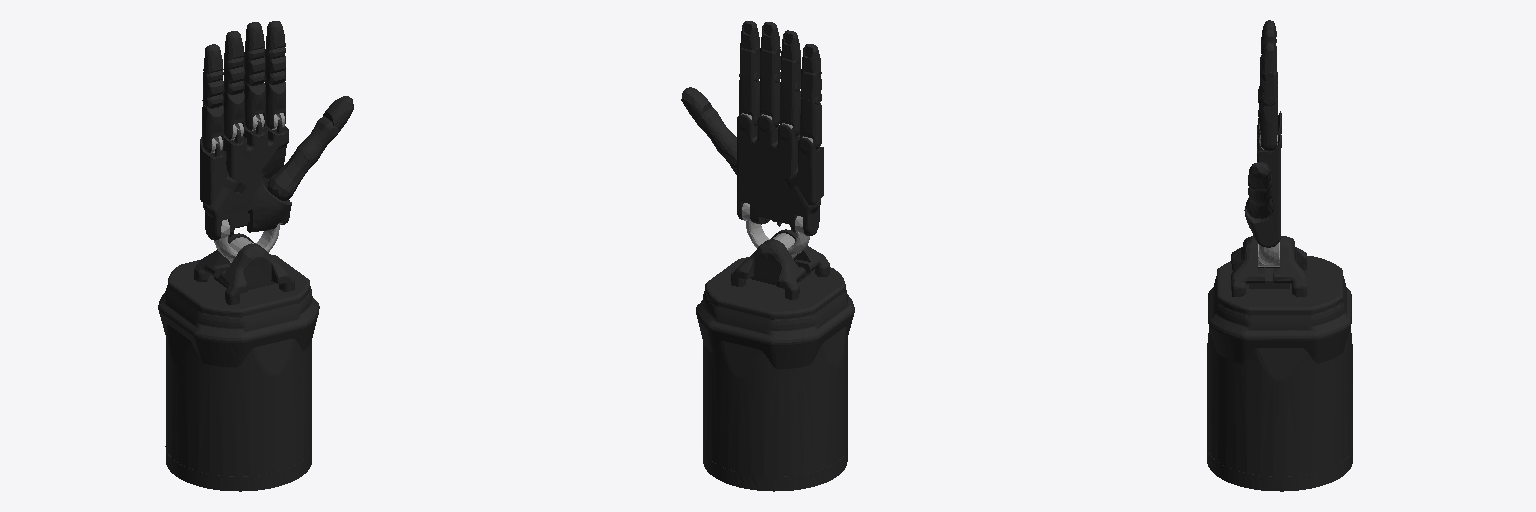
--- Facts derived from the render (not from the file) ---
Views: 3 orthographic renders of the robot side by side, from view 1: azimuth 30°, elevation 25°; view 2: azimuth 150°, elevation 25°; view 3: azimuth 270°, elevation 25°.
Robot: shadowhand_motor — 33 links, 32 joints (24 revolute, 8 fixed); root link world; default pose: every joint at zero.
Links seen in each view (by area): view 1: rh_forearm, rh_palm, rh_lfmetacarpal, rh_thproximal, rh_wrist, rh_thmiddle, rh_lfproximal, rh_rfproximal, rh_mfproximal, rh_ffproximal, rh_ffmiddle, rh_mfmiddle (+3 smaller); view 2: rh_forearm, rh_palm, rh_lfmetacarpal, rh_wrist, rh_thmiddle, rh_lfproximal, rh_rfproximal, rh_ffproximal, rh_mfproximal, rh_thdistal, rh_mfmiddle, rh_lfmiddle (+2 smaller); view 3: rh_forearm, rh_palm, rh_ffproximal, rh_ffmiddle.
Boxes of the visible links, <box> form: rh_forearm: <box>158,233,319,491</box>; rh_palm: <box>203,120,291,240</box>; rh_lfmetacarpal: <box>200,137,240,205</box>; rh_thproximal: <box>267,149,313,200</box>; rh_wrist: <box>214,219,282,262</box>; rh_thmiddle: <box>296,116,338,163</box>; rh_lfproximal: <box>202,103,223,152</box>; rh_rfproximal: <box>223,91,244,139</box>; rh_mfproximal: <box>244,80,265,130</box>; rh_ffproximal: <box>265,79,285,129</box>; rh_ffmiddle: <box>265,47,285,84</box>; rh_mfmiddle: <box>244,48,265,85</box>; rh_forearm: <box>696,229,854,491</box>; rh_palm: <box>737,114,820,235</box>; rh_lfmetacarpal: <box>784,138,823,204</box>; rh_wrist: <box>742,203,809,258</box>; rh_thmiddle: <box>696,108,736,154</box>; rh_lfproximal: <box>800,98,821,149</box>; rh_rfproximal: <box>780,86,800,136</box>; rh_ffproximal: <box>739,75,759,126</box>; rh_mfproximal: <box>760,76,779,127</box>; rh_thdistal: <box>681,87,712,122</box>; rh_mfmiddle: <box>760,48,780,82</box>; rh_lfmiddle: <box>801,69,821,104</box>; rh_forearm: <box>1207,236,1352,491</box>; rh_palm: <box>1244,113,1281,247</box>; rh_ffproximal: <box>1258,94,1277,151</box>; rh_ffmiddle: <box>1260,68,1277,105</box>.
Bounding box of the posed robot: 0.1783 × 0.1351 × 0.4454 m (x, y, z).
23 mesh visuals loaded from 11 distinct referenced files (11 Collada DAE).

URDF robot description (shadowhand_motor):
<?xml version="1.0" ?>
<!-- =================================================================================== -->
<!-- |    This document was autogenerated by xacro from [local-path]/projects/shadow_robot/base_deps/src/sr_common/sr_description/robots/shadowhand_motor.urdf.xacro | -->
<!-- |    EDITING THIS FILE BY HAND IS NOT RECOMMENDED                                 | -->
<!-- =================================================================================== -->
<robot name="shadowhand_motor" xmlns:body="http://playerstage.sourceforge.net/gazebo/xmlschema/#body" xmlns:controller="http://playerstage.sourceforge.net/gazebo/xmlschema/#controller" xmlns:geom="http://playerstage.sourceforge.net/gazebo/xmlschema/#geom" xmlns:interface="http://playerstage.sourceforge.net/gazebo/xmlschema/#interface" xmlns:joint="http://playerstage.sourceforge.net/gazebo/xmlschema/#slider" xmlns:sensor="http://playerstage.sourceforge.net/gazebo/xmlschema/#sensor" xmlns:xacro="http://www.ros.org/wiki/xacro">
  <material name="Blue">
    <color rgba="0.0 0.0 0.8 1.0"/>
  </material>
  <material name="Green">
    <color rgba="0.0 0.8 0.0 1.0"/>
  </material>
  <material name="BiotacGreen">
    <color rgba="0.31 0.85 0.42 1.0"/>
  </material>
  <material name="Grey">
    <color rgba="0.2 0.2 0.2 1.0"/>
  </material>
  <material name="LightGrey">
    <color rgba="0.6 0.6 0.6 1.0"/>
  </material>
  <material name="Red">
    <color rgba="0.8 0.0 0.0 1.0"/>
  </material>
  <material name="White">
    <color rgba="1.0 1.0 1.0 1.0"/>
  </material>
  <gazebo>
    <plugin filename="libgazebo_ros_control.so" name="gazebo_ros_control">
      <robotSimType>sr_gazebo_sim/SrGazeboHWSim</robotSimType>
    </plugin>
  </gazebo>
  <!-- hand with cylindrical base drifts in gazebo, attach it to the world -->
  <link name="world"/>
  <joint name="rh_world_joint" type="fixed">
    <parent link="world"/>
    <child link="rh_forearm"/>
    <origin rpy="0.0 0.0 0.0" xyz="0.0 0.0 0.0"/>
  </joint>
  <link name="rh_forearm">
    <inertial>
      <origin rpy="0 0 0" xyz="0 0 0.09"/>
      <mass value="3.0"/>
      <inertia ixx="0.0138" ixy="0.0" ixz="0.0" iyy="0.0138" iyz="0.0" izz="0.00744"/>
    </inertial>
    <visual>
      <origin rpy="0 0 0" xyz="0 0 0"/>
      <geometry name="rh_forearm_visual">
        <mesh filename="package://sr_description/meshes/hand/forearm_visual_plus.dae" scale="0.001 0.001 0.001"/>
      </geometry>
      <material name="Grey"/>
    </visual>
    <collision>
      <origin rpy="0 0 0" xyz="0 0 0.092"/>
      <geometry name="rh_forearm_collision">
        <mesh filename="package://sr_description/meshes/hand/forearm_collision_plus.stl" scale="0.001 0.001 0.001"/>
      </geometry>
    </collision>
    <!-- wrist mount -->
    <collision>
      <origin rpy="0 0.78 0" xyz="0 -0.01 0.181"/>
      <geometry>
        <box size="0.07 0.07 0.07"/>
      </geometry>
    </collision>
  </link>
  <gazebo reference="rh_forearm">
    <selfCollide>false</selfCollide>
  </gazebo>
  <link name="rh_wrist">
    <inertial>
      <origin rpy="0 0 0" xyz="0 0 0.029"/>
      <mass value="0.1"/>
      <inertia ixx="0.000035" ixy="0.0" ixz="0.0" iyy="0.000064" iyz="0.0" izz="0.0000438"/>
    </inertial>
    <visual>
      <origin rpy="0 0 0" xyz="0 0 0"/>
      <geometry name="rh_wrist_visual">
        <mesh filename="package://sr_description/meshes/hand/wrist.dae" scale="0.001 0.001 0.001"/>
      </geometry>
      <material name="LightGrey"/>
    </visual>
    <collision>
      <origin rpy="1.5708 1.5708 0" xyz="0 0 0"/>
      <geometry name="rh_wrist_collision_geom">
        <cylinder length="0.030" radius="0.0135"/>
      </geometry>
    </collision>
    <collision>
      <origin rpy="0 1.5708 0" xyz="-0.026 0 0.034"/>
      <geometry>
        <cylinder length="0.010" radius="0.011"/>
      </geometry>
    </collision>
    <collision>
      <origin rpy="0 1.5708 0" xyz="0.031 0 0.034"/>
      <geometry>
        <cylinder length="0.010" radius="0.011"/>
      </geometry>
    </collision>
    <collision>
      <origin rpy="0 0.7854 0" xyz="-0.021 0 0.011"/>
      <geometry>
        <box size="0.027 0.018 0.010"/>
      </geometry>
    </collision>
    <collision>
      <origin rpy="0 -0.7854 0" xyz="0.026 0 0.010"/>
      <geometry>
        <box size="0.027 0.018 0.010"/>
      </geometry>
    </collision>
  </link>
  <gazebo reference="rh_wrist">
    <material>Gazebo/White</material>
    <selfCollide>false</selfCollide>
  </gazebo>
  <joint name="rh_WRJ2" type="revolute">
    <parent link="rh_forearm"/>
    <child link="rh_wrist"/>
    <origin rpy="0 0 0" xyz="0 -0.010 0.213"/>
    <axis xyz="0 1.0 0"/>
    <limit effort="10.0" lower="-0.523598775598" upper="0.174532925199" velocity="2.0"/>
    <dynamics damping="0.1"/>
  </joint>
  <gazebo reference="rh_WRJ2">
    <provideFeedback>1</provideFeedback>
    <implicitSpringDamper>1</implicitSpringDamper>
  </gazebo>
  <transmission name="rh_wrist_transmission">
    <type>sr_mechanism_model/SimpleTransmission</type>
    <actuator name="rh_WRJ2">
      <mechanicalReduction>1</mechanicalReduction>
    </actuator>
    <joint name="rh_WRJ2">
      <hardwareInterface>hardware_interface/EffortJointInterface</hardwareInterface>
    </joint>
  </transmission>
  <link name="rh_palm">
    <inertial>
      <origin rpy="0 0 0" xyz="0 0 0.035"/>
      <mass value="0.3"/>
      <inertia ixx="0.0003581" ixy="0.0" ixz="0.0" iyy="0.0005287" iyz="0.0" izz="0.000191"/>
    </inertial>
    <visual>
      <origin rpy="0 0 0" xyz="0 0 0"/>
      <geometry name="rh_palm_visual">
        <mesh filename="package://sr_description/meshes/hand/palm.dae" scale="0.001 0.001 0.001"/>
      </geometry>
      <material name="Grey"/>
    </visual>
    <collision>
      <origin rpy="0 0 0" xyz="0.011 0.0085 0.038"/>
      <geometry name="rh_palm_collision_geom">
        <box size="0.062 0.007 0.098"/>
      </geometry>
    </collision>
    <collision>
      <origin rpy="0 0 0" xyz="-0.002 -0.0035 0.038"/>
      <geometry>
        <box size="0.036 0.017 0.098"/>
      </geometry>
    </collision>
    <!-- palm complement below first finger -->
    <collision>
      <origin rpy="0 0 0" xyz="0.029 -0.0035 0.082"/>
      <geometry>
        <box size="0.026 0.017 0.010"/>
      </geometry>
    </collision>
    <collision>
      <origin rpy="0.2 0 0.25" xyz="0.0265 -0.001 0.070"/>
      <geometry>
        <box size="0.026 0.014 0.018"/>
      </geometry>
    </collision>
    <!-- thumb pulp side -->
    <collision>
      <origin rpy="0 0 0" xyz="0.0315 -0.0085 0.001"/>
      <geometry>
        <box size="0.021 0.027 0.024"/>
      </geometry>
    </collision>
    <!-- thumb pulp central -->
    <collision>
      <origin rpy="0 0 -0.48" xyz="0.0125 -0.015 0.009"/>
      <geometry>
        <box size="0.022 0.005 0.040"/>
      </geometry>
    </collision>
    <!-- above middle finger-->
    <collision>
      <origin rpy="0 0 0" xyz="0.011 0 0.089"/>
      <geometry>
        <box size="0.018 0.024 0.004"/>
      </geometry>
    </collision>
    <!-- metacarpal side-->
    <collision>
      <origin rpy="0 0 0" xyz="-0.03 0 0.009"/>
      <geometry>
        <box size="0.020 0.024 0.040"/>
      </geometry>
    </collision>
  </link>
  <joint name="rh_ee_fixed_joint" type="fixed">
    <parent link="rh_palm"/>
    <child link="rh_manipulator"/>
    <origin rpy="0.0 0.0 0.0" xyz="0.0 0.0 0.05"/>
  </joint>
  <link name="rh_manipulator"/>
  <joint name="rh_WRJ1" type="revolute">
    <parent link="rh_wrist"/>
    <child link="rh_palm"/>
    <origin rpy="0 0 0" xyz="0 0 0.034"/>
    <axis xyz="1 0 0"/>
    <limit effort="5.0" lower="-0.698131700798" upper="0.488692190558" velocity="2.0"/>
    <dynamics damping="0.1"/>
  </joint>
  <gazebo reference="rh_WRJ1">
    <provideFeedback>1</provideFeedback>
    <implicitSpringDamper>1</implicitSpringDamper>
  </gazebo>
  <link name="rh_imu"/>
  <joint name="rh_palm_to_imu" type="fixed">
    <parent link="rh_palm"/>
    <child link="rh_imu"/>
    <origin rpy="-1.5707963 3.141592 0.0" xyz="0.01785 0.00765 0.049125"/>
  </joint>
  <sensor name="rh_imu" update_rate="100">
    <parent link="rh_imu"/>
    <origin rpy="0 0 0" xyz="0 0 0"/>
  </sensor>
  <transmission name="rh_palm_transmission">
    <type>sr_mechanism_model/SimpleTransmission</type>
    <actuator name="rh_WRJ1">
      <mechanicalReduction>1</mechanicalReduction>
    </actuator>
    <joint name="rh_WRJ1">
      <hardwareInterface>hardware_interface/EffortJointInterface</hardwareInterface>
    </joint>
  </transmission>
  <!-- prefix can be anything but usually is "r_" or  "l_" for right and left hands distinction -->
  <gazebo reference="rh_palm">
    <sensor name="rh_palm_contact" type="contact">
      <always_on>1</always_on>
      <update_rate>1000.0</update_rate>
      <contact>
        <collision>rh_palm_collision</collision>
        <topic>rh_palm_collision</topic>
      </contact>
      <plugin filename="libgazebo_ros_bumper.so" name="rh_palm_gazebo_ros_bumper_controller">
        <alwaysOn>true</alwaysOn>
        <frameName>rh_palm</frameName>
        <updateRate>100.0</updateRate>
        <bumperTopicName>contacts/rh_palm</bumperTopicName>
      </plugin>
    </sensor>
  </gazebo>
  <link name="rh_ffknuckle">
    <inertial>
      <origin rpy="0 0 0" xyz="0 0 0"/>
      <mass value="0.008"/>
      <inertia ixx="0.00000026" ixy="0.0" ixz="0.0" iyy="0.00000026" iyz="0.0" izz="0.00000032"/>
    </inertial>
    <visual>
      <origin rpy="0 0 0" xyz="0 0 0.0005"/>
      <geometry name="rh_ffknuckle_visual">
        <mesh filename="package://sr_description/meshes/hand/knuckle.dae" scale="0.001 0.001 0.001"/>
      </geometry>
      <material name="LightGrey"/>
    </visual>
    <collision>
      <origin rpy="0 1.5708 0" xyz="0 0 0"/>
      <geometry name="rh_ffknuckle_collision_geom">
        <cylinder length="0.014" radius="0.007"/>
      </geometry>
    </collision>
  </link>
  <joint name="rh_FFJ4" type="revolute">
    <parent link="rh_palm"/>
    <child link="rh_ffknuckle"/>
    <!--<origin xyz="0.033 0 0.095" rpy="0 0 0" />-->
    <origin rpy="0 0 0" xyz="0.033 0 0.095"/>
    <axis xyz="0 -1.0 0"/>
    <limit effort="4.0" lower="-0.349065850399" upper="0.349065850399" velocity="2.0"/>
    <dynamics damping="0.1"/>
  </joint>
  <gazebo reference="rh_FFJ4">
    <provideFeedback>1</provideFeedback>
    <implicitSpringDamper>1</implicitSpringDamper>
  </gazebo>
  <transmission name="rh_ffknuckle_transmission">
    <type>sr_mechanism_model/SimpleTransmission</type>
    <actuator name="rh_FFJ4">
      <mechanicalReduction>1</mechanicalReduction>
    </actuator>
    <joint name="rh_FFJ4">
      <hardwareInterface>hardware_interface/EffortJointInterface</hardwareInterface>
    </joint>
  </transmission>
  <!-- prefix can be anything but usually is "r_" or  "l_" for right and left hands distinction -->
  <gazebo reference="rh_ffknuckle">
    <sensor name="rh_ffknuckle_contact" type="contact">
      <always_on>1</always_on>
      <update_rate>1000.0</update_rate>
      <contact>
        <collision>rh_ffknuckle_collision</collision>
        <topic>rh_ffknuckle_collision</topic>
      </contact>
      <plugin filename="libgazebo_ros_bumper.so" name="rh_ffknuckle_gazebo_ros_bumper_controller">
        <alwaysOn>true</alwaysOn>
        <frameName>rh_ffknuckle</frameName>
        <updateRate>100.0</updateRate>
        <bumperTopicName>contacts/rh_ff/knuckle</bumperTopicName>
      </plugin>
    </sensor>
    <material>Gazebo/Grey</material>
  </gazebo>
  <link name="rh_ffproximal">
    <inertial>
      <mass value="0.030"/>
      <origin xyz="0 0 0.0225"/>
      <inertia ixx="0.0000098" ixy="0.0" ixz="0.0" iyy="0.00001" iyz="0.0" izz="0.0000018"/>
    </inertial>
    <visual>
      <origin rpy="0 0 0" xyz="0 0 0"/>
      <geometry name="rh_ffproximal_visual">
        <mesh filename="package://sr_description/meshes/hand/F3.dae" scale="0.001 0.001 0.001"/>
      </geometry>
      <material name="Grey"/>
    </visual>
    <collision>
      <origin rpy="0 0 0" xyz="0 0 0.025"/>
      <geometry name="rh_ffproximal_collision_geom">
        <cylinder length="0.040" radius="0.007"/>
      </geometry>
    </collision>
  </link>
  <joint name="rh_FFJ3" type="revolute">
    <parent link="rh_ffknuckle"/>
    <child link="rh_ffproximal"/>
    <origin rpy="0 0 0" xyz="0 0 0"/>
    <axis xyz="1 0 0"/>
    <limit effort="4.0" lower="0" upper="1.57079632679" velocity="2.0"/>
    <dynamics damping="0.1"/>
  </joint>
  <gazebo reference="rh_FFJ3">
    <provideFeedback>1</provideFeedback>
    <implicitSpringDamper>1</implicitSpringDamper>
  </gazebo>
  <transmission name="rh_ffproximal_transmission">
    <type>sr_mechanism_model/SimpleTransmission</type>
    <actuator name="rh_FFJ3">
      <mechanicalReduction>1</mechanicalReduction>
    </actuator>
    <joint name="rh_FFJ3">
      <hardwareInterface>hardware_interface/EffortJointInterface</hardwareInterface>
    </joint>
  </transmission>
  <!-- prefix can be anything but usually is "r_" or  "l_" for right and left hands distinction -->
  <gazebo reference="rh_ffproximal">
    <sensor name="rh_ffproximal_contact" type="contact">
      <always_on>1</always_on>
      <update_rate>1000.0</update_rate>
      <contact>
        <collision>rh_ffproximal_collision</collision>
        <topic>rh_ffproximal_collision</topic>
      </contact>
      <plugin filename="libgazebo_ros_bumper.so" name="rh_ffproximal_gazebo_ros_bumper_controller">
        <alwaysOn>true</alwaysOn>
        <frameName>rh_ffproximal</frameName>
        <updateRate>100.0</updateRate>
        <bumperTopicName>contacts/rh_ff/proximal</bumperTopicName>
      </plugin>
    </sensor>
    <selfCollide>true</selfCollide>
  </gazebo>
  <link name="rh_ffmiddle">
    <inertial>
      <origin rpy="0 0 0" xyz="0 0 0.0125"/>
      <mass value="0.017"/>
      <inertia ixx="0.0000026" ixy="0.0" ixz="0.0" iyy="0.0000027" iyz="0.0" izz="0.00000087"/>
    </inertial>
    <visual>
      <origin rpy="0 0 0" xyz="0 0 0"/>
      <geometry name="rh_ffmiddle_visual">
        <mesh filename="package://sr_description/meshes/hand/F2.dae" scale="0.001 0.001 0.001"/>
      </geometry>
      <material name="Grey"/>
    </visual>
    <collision>
      <origin rpy="0 0 0" xyz="0 0 0.0125"/>
      <geometry name="rh_ffmiddle_collision_geom">
        <cylinder length="0.025" radius="0.007"/>
      </geometry>
    </collision>
    <collision>
      <origin rpy="0 0 0" xyz="0 0 0.0"/>
      <geometry>
        <sphere radius="0.007"/>
      </geometry>
    </collision>
    <collision>
      <origin rpy="0 0 0" xyz="0 0 0.025"/>
      <geometry>
        <sphere radius="0.007"/>
      </geometry>
    </collision>
  </link>
  <joint name="rh_FFJ2" type="revolute">
    <parent link="rh_ffproximal"/>
    <child link="rh_ffmiddle"/>
    <origin rpy="0 0 0" xyz="0 0 0.045"/>
    <axis xyz="1 0 0"/>
    <limit effort="4.0" lower="0" upper="1.57079632679" velocity="2.0"/>
    <dynamics damping="0.1"/>
  </joint>
  <gazebo reference="rh_FFJ2">
    <provideFeedback>1</provideFeedback>
    <implicitSpringDamper>1</implicitSpringDamper>
  </gazebo>
  <transmission name="rh_ffmiddle_transmission">
    <type>sr_mechanism_model/SimpleTransmission</type>
    <actuator name="rh_FFJ2">
      <mechanicalReduction>1</mechanicalReduction>
    </actuator>
    <joint name="rh_FFJ2">
      <hardwareInterface>hardware_interface/EffortJointInterface</hardwareInterface>
    </joint>
    <!-- <joint name="rh_FFJ1">
      <hardwareInterface>hardware_interface/EffortJointInterface</hardwareInterface>
    </joint> -->
  </transmission>
  <!-- prefix can be anything but usually is "r_" or  "l_" for right and left hands distinction -->
  <gazebo reference="rh_ffmiddle">
    <sensor name="rh_ffmiddle_contact" type="contact">
      <always_on>1</always_on>
      <update_rate>1000.0</update_rate>
      <contact>
        <collision>rh_ffmiddle_collision</collision>
        <topic>rh_ffmiddle_collision</topic>
      </contact>
      <plugin filename="libgazebo_ros_bumper.so" name="rh_ffproximal_gazebo_ros_bumper_controller">
        <alwaysOn>true</alwaysOn>
        <frameName>rh_ffmiddle</frameName>
        <updateRate>100.0</updateRate>
        <bumperTopicName>contacts/rh_ff/middle</bumperTopicName>
      </plugin>
    </sensor>
    <selfCollide>true</selfCollide>
  </gazebo>
  <link name="rh_ffdistal">
    <inertial>
      <mass value="0.012"/>
      <origin xyz="0 0 0.012"/>
      <inertia ixx="0.00000094" ixy="0.0" ixz="0.0" iyy="0.0000011" iyz="0.0" izz="0.00000053"/>
    </inertial>
    <visual>
      <origin rpy="0 0 0" xyz="0 0 0"/>
      <geometry name="rh_ffdistal_visual">
        <!-- Standard distal  -->
        <mesh filename="package://sr_description/meshes/hand/F1.dae" scale="0.001 0.001 0.001"/>
      </geometry>
      <material name="Grey"/>
    </visual>
    <collision>
      <origin rpy="0 0 0" xyz="0 0 0"/>
      <geometry name="rh_ffdistal_collision_geom">
        <!-- Standard distal  -->
        <mesh filename="package://sr_description/meshes/hand/F1.dae" scale="0.001 0.001 0.001"/>
      </geometry>
    </collision>
  </link>
  <joint name="rh_FFJ1" type="revolute">
    <parent link="rh_ffmiddle"/>
    <child link="rh_ffdistal"/>
    <origin rpy="0 0 0" xyz="0 0 0.025"/>
    <axis xyz="1 0 0"/>
    <!-- standard distal joint -->
    <limit effort="4.0" lower="0" upper="1.57079632679" velocity="2.0"/>
    <dynamics damping="0.1"/>
  </joint>
  <gazebo reference="rh_FFJ1">
    <provideFeedback>1</provideFeedback>
    <implicitSpringDamper>1</implicitSpringDamper>
  </gazebo>
  <link name="rh_fftip">
    <inertial>
      <mass value="0.001"/>
      <inertia ixx="0.0" ixy="0.0" ixz="0.0" iyy="0.0" iyz="0.0" izz="0.0"/>
    </inertial>
  </link>
  <joint name="rh_FFtip" type="fixed">
    <parent link="rh_ffdistal"/>
    <child link="rh_fftip"/>
    <origin rpy="0 0 0" xyz="0 0 0.026"/>
  </joint>
  <transmission name="rh_ffdistal_transmission">
    <type>sr_mechanism_model/SimpleTransmission</type>
    <actuator name="rh_FFJ1">
      <mechanicalReduction>1</mechanicalReduction>
    </actuator>
    <joint name="rh_FFJ1">
      <hardwareInterface>hardware_interface/EffortJointInterface</hardwareInterface>
    </joint>
  </transmission>
  <!-- prefix can be anything but usually is "r_" or  "l_" for right and left hands distinction -->
  <gazebo reference="rh_ffdistal">
    <sensor name="rh_ffdistal_contact" type="contact">
      <always_on>1</always_on>
      <update_rate>1000.0</update_rate>
      <contact>
        <collision>rh_ffdistal_collision</collision>
        <topic>rh_ffdistal_collision</topic>
      </contact>
      <plugin filename="libgazebo_ros_bumper.so" name="rh_ffdistal_gazebo_ros_bumper_controller">
        <alwaysOn>true</alwaysOn>
        <frameName>rh_ffdistal</frameName>
        <updateRate>100.0</updateRate>
        <bumperTopicName>contacts/rh_ff/distal</bumperTopicName>
      </plugin>
    </sensor>
    <mu1 value="500.0"/>
    <mu2 value="500.0"/>
    <kp value="10000000.0"/>
    <kd value="1.0"/>
    <selfCollide>true</selfCollide>
  </gazebo>
  <link name="rh_mfknuckle">
    <inertial>
      <origin rpy="0 0 0" xyz="0 0 0"/>
      <mass value="0.008"/>
      <inertia ixx="0.00000026" ixy="0.0" ixz="0.0" iyy="0.00000026" iyz="0.0" izz="0.00000032"/>
    </inertial>
    <visual>
      <origin rpy="0 0 0" xyz="0 0 0.0005"/>
      <geometry name="rh_mfknuckle_visual">
        <mesh filename="package://sr_description/meshes/hand/knuckle.dae" scale="0.001 0.001 0.001"/>
      </geometry>
      <material name="LightGrey"/>
    </visual>
    <collision>
      <origin rpy="0 1.5708 0" xyz="0 0 0"/>
      <geometry name="rh_mfknuckle_collision_geom">
        <cylinder length="0.014" radius="0.007"/>
      </geometry>
    </collision>
  </link>
  <joint name="rh_MFJ4" type="revolute">
    <parent link="rh_palm"/>
    <child link="rh_mfknuckle"/>
    <!--<origin xyz="0.033 0 0.095" rpy="0 0 0" />-->
    <origin rpy="0 0 0" xyz="0.011 0 0.099"/>
    <axis xyz="0 -1.0 0"/>
    <limit effort="4.0" lower="-0.349065850399" upper="0.349065850399" velocity="2.0"/>
    <dynamics damping="0.1"/>
  </joint>
  <gazebo reference="rh_MFJ4">
    <provideFeedback>1</provideFeedback>
    <implicitSpringDamper>1</implicitSpringDamper>
  </gazebo>
  <transmission name="rh_mfknuckle_transmission">
    <type>sr_mechanism_model/SimpleTransmission</type>
    <actuator name="rh_MFJ4">
      <mechanicalReduction>1</mechanicalReduction>
    </actuator>
    <joint name="rh_MFJ4">
      <hardwareInterface>hardware_interface/EffortJointInterface</hardwareInterface>
    </joint>
  </transmission>
  <!-- prefix can be anything but usually is "r_" or  "l_" for right and left hands distinction -->
  <gazebo reference="rh_mfknuckle">
    <sensor name="rh_mfknuckle_contact" type="contact">
      <always_on>1</always_on>
      <update_rate>1000.0</update_rate>
      <contact>
        <collision>rh_mfknuckle_collision</collision>
        <topic>rh_mfknuckle_collision</topic>
      </contact>
      <plugin filename="libgazebo_ros_bumper.so" name="rh_mfknuckle_gazebo_ros_bumper_controller">
        <alwaysOn>true</alwaysOn>
        <frameName>rh_mfknuckle</frameName>
        <updateRate>100.0</updateRate>
        <bumperTopicName>contacts/rh_mf/knuckle</bumperTopicName>
      </plugin>
    </sensor>
    <material>Gazebo/Grey</material>
  </gazebo>
  <link name="rh_mfproximal">
    <inertial>
      <mass value="0.030"/>
      <origin xyz="0 0 0.0225"/>
      <inertia ixx="0.0000098" ixy="0.0" ixz="0.0" iyy="0.00001" iyz="0.0" izz="0.0000018"/>
    </inertial>
    <visual>
      <origin rpy="0 0 0" xyz="0 0 0"/>
      <geometry name="rh_mfproximal_visual">
        <mesh filename="package://sr_description/meshes/hand/F3.dae" scale="0.001 0.001 0.001"/>
      </geometry>
      <material name="Grey"/>
    </visual>
    <collision>
      <origin rpy="0 0 0" xyz="0 0 0.025"/>
      <geometry name="rh_mfproximal_collision_geom">
        <cylinder length="0.040" radius="0.007"/>
      </geometry>
    </collision>
  </link>
  <joint name="rh_MFJ3" type="revolute">
    <parent link="rh_mfknuckle"/>
    <child link="rh_mfproximal"/>
    <origin rpy="0 0 0" xyz="0 0 0"/>
    <axis xyz="1 0 0"/>
    <limit effort="4.0" lower="0" upper="1.57079632679" velocity="2.0"/>
    <dynamics damping="0.1"/>
  </joint>
  <gazebo reference="rh_MFJ3">
    <provideFeedback>1</provideFeedback>
    <implicitSpringDamper>1</implicitSpringDamper>
  </gazebo>
  <transmission name="rh_mfproximal_transmission">
    <type>sr_mechanism_model/SimpleTransmission</type>
    <actuator name="rh_MFJ3">
      <mechanicalReduction>1</mechanicalReduction>
    </actuator>
    <joint name="rh_MFJ3">
      <hardwareInterface>hardware_interface/EffortJointInterface</hardwareInterface>
    </joint>
  </transmission>
  <!-- prefix can be anything but usually is "r_" or  "l_" for right and left hands distinction -->
  <gazebo reference="rh_mfproximal">
    <sensor name="rh_mfproximal_contact" type="contact">
      <always_on>1</always_on>
      <update_rate>1000.0</update_rate>
      <contact>
        <collision>rh_mfproximal_collision</collision>
        <topic>rh_mfproximal_collision</topic>
      </contact>
      <plugin filename="libgazebo_ros_bumper.so" name="rh_mfproximal_gazebo_ros_bumper_controller">
        <alwaysOn>true</alwaysOn>
        <frameName>rh_mfproximal</frameName>
        <updateRate>100.0</updateRate>
        <bumperTopicName>contacts/rh_mf/proximal</bumperTopicName>
      </plugin>
    </sensor>
    <selfCollide>true</selfCollide>
  </gazebo>
  <link name="rh_mfmiddle">
    <inertial>
      <origin rpy="0 0 0" xyz="0 0 0.0125"/>
      <mass value="0.017"/>
      <inertia ixx="0.0000026" ixy="0.0" ixz="0.0" iyy="0.0000027" iyz="0.0" izz="0.00000087"/>
    </inertial>
    <visual>
      <origin rpy="0 0 0" xyz="0 0 0"/>
      <geometry name="rh_mfmiddle_visual">
        <mesh filename="package://sr_description/meshes/hand/F2.dae" scale="0.001 0.001 0.001"/>
      </geometry>
      <material name="Grey"/>
    </visual>
    <collision>
      <origin rpy="0 0 0" xyz="0 0 0.0125"/>
      <geometry name="rh_mfmiddle_collision_geom">
        <cylinder length="0.025" radius="0.007"/>
      </geometry>
    </collision>
    <collision>
      <origin rpy="0 0 0" xyz="0 0 0.0"/>
      <geometry>
        <sphere radius="0.007"/>
      </geometry>
    </collision>
    <collision>
      <origin rpy="0 0 0" xyz="0 0 0.025"/>
      <geometry>
        <sphere radius="0.007"/>
      </geometry>
    </collision>
  </link>
  <joint name="rh_MFJ2" type="revolute">
    <parent link="rh_mfproximal"/>
    <child link="rh_mfmiddle"/>
    <origin rpy="0 0 0" xyz="0 0 0.045"/>
    <axis xyz="1 0 0"/>
    <limit effort="4.0" lower="0" upper="1.57079632679" velocity="2.0"/>
    <dynamics damping="0.1"/>
  </joint>
  <gazebo reference="rh_MFJ2">
    <provideFeedback>1</provideFeedback>
    <implicitSpringDamper>1</implicitSpringDamper>
  </gazebo>
  <transmission name="rh_mfmiddle_transmission">
    <type>sr_mechanism_model/SimpleTransmission</type>
    <actuator name="rh_MFJ2">
      <mechanicalReduction>1</mechanicalReduction>
    </actuator>
    <joint name="rh_MFJ2">
      <hardwareInterface>hardware_interface/EffortJointInterface</hardwareInterface>
    </joint>
  </transmission>
  <!-- prefix can be anything but usually is "r_" or  "l_" for right and left hands distinction -->
  <gazebo reference="rh_mfmiddle">
    <sensor name="rh_mfmiddle_contact" type="contact">
      <always_on>1</always_on>
      <update_rate>1000.0</update_rate>
      <contact>
        <collision>rh_mfmiddle_collision</collision>
        <topic>rh_mfmiddle_collision</topic>
      </contact>
      <plugin filename="libgazebo_ros_bumper.so" name="rh_mfproximal_gazebo_ros_bumper_controller">
        <alwaysOn>true</alwaysOn>
        <frameName>rh_mfmiddle</frameName>
        <updateRate>100.0</updateRate>
        <bumperTopicName>contacts/rh_mf/middle</bumperTopicName>
      </plugin>
    </sensor>
    <selfCollide>true</selfCollide>
  </gazebo>
  <link name="rh_mfdistal">
    <inertial>
      <mass value="0.012"/>
      <origin xyz="0 0 0.012"/>
      <inertia ixx="0.00000094" ixy="0.0" ixz="0.0" iyy="0.0000011" iyz="0.0" izz="0.00000053"/>
    </inertial>
    <visual>
      <origin rpy="0 0 0" xyz="0 0 0"/>
      <geometry name="rh_mfdistal_visual">
        <!-- Standard distal  -->
        <mesh filename="package://sr_description/meshes/hand/F1.dae" scale="0.001 0.001 0.001"/>
      </geometry>
      <material name="Grey"/>
    </visual>
    <collision>
      <origin rpy="0 0 0" xyz="0 0 0"/>
      <geometry name="rh_mfdistal_collision_geom">
        <!-- Standard distal  -->
        <mesh filename="package://sr_description/meshes/hand/F1.dae" scale="0.001 0.001 0.001"/>
      </geometry>
    </collision>
  </link>
  <joint name="rh_MFJ1" type="revolute">
    <parent link="rh_mfmiddle"/>
    <child link="rh_mfdistal"/>
    <origin rpy="0 0 0" xyz="0 0 0.025"/>
    <axis xyz="1 0 0"/>
    <!-- standard distal joint -->
    <limit effort="4.0" lower="0" upper="1.57079632679" velocity="2.0"/>
    <dynamics damping="0.1"/>
  </joint>
  <gazebo reference="rh_MFJ1">
    <provideFeedback>1</provideFeedback>
    <implicitSpringDamper>1</implicitSpringDamper>
  </gazebo>
  <link name="rh_mftip">
    <inertial>
      <mass value="0.001"/>
      <inertia ixx="0.0" ixy="0.0" ixz="0.0" iyy="0.0" iyz="0.0" izz="0.0"/>
    </inertial>
  </link>
  <joint name="rh_MFtip" type="fixed">
    <parent link="rh_mfdistal"/>
    <child link="rh_mftip"/>
    <origin rpy="0 0 0" xyz="0 0 0.026"/>
  </joint>
  <transmission name="rh_mfdistal_transmission">
    <type>sr_mechanism_model/SimpleTransmission</type>
    <actuator name="rh_MFJ1">
      <mechanicalReduction>1</mechanicalReduction>
    </actuator>
    <joint name="rh_MFJ1">
      <hardwareInterface>hardware_interface/EffortJointInterface</hardwareInterface>
    </joint>
  </transmission>
  <!-- prefix can be anything but usually is "r_" or  "l_" for right and left hands distinction -->
  <gazebo reference="rh_mfdistal">
    <sensor name="rh_mfdistal_contact" type="contact">
      <always_on>1</always_on>
      <update_rate>1000.0</update_rate>
      <contact>
        <collision>rh_mfdistal_collision</collision>
        <topic>rh_mfdistal_collision</topic>
      </contact>
      <plugin filename="libgazebo_ros_bumper.so" name="rh_mfdistal_gazebo_ros_bumper_controller">
        <alwaysOn>true</alwaysOn>
        <frameName>rh_mfdistal</frameName>
        <updateRate>100.0</updateRate>
        <bumperTopicName>contacts/rh_mf/distal</bumperTopicName>
      </plugin>
    </sensor>
    <mu1 value="500.0"/>
    <mu2 value="500.0"/>
    <kp value="10000000.0"/>
    <kd value="1.0"/>
    <selfCollide>true</selfCollide>
  </gazebo>
  <link name="rh_rfknuckle">
    <inertial>
      <origin rpy="0 0 0" xyz="0 0 0"/>
      <mass value="0.008"/>
      <inertia ixx="0.00000026" ixy="0.0" ixz="0.0" iyy="0.00000026" iyz="0.0" izz="0.00000032"/>
    </inertial>
    <visual>
      <origin rpy="0 0 0" xyz="0 0 0.0005"/>
      <geometry name="rh_rfknuckle_visual">
        <mesh filename="package://sr_description/meshes/hand/knuckle.dae" scale="0.001 0.001 0.001"/>
      </geometry>
      <material name="LightGrey"/>
    </visual>
    <collision>
      <origin rpy="0 1.5708 0" xyz="0 0 0"/>
      <geometry name="rh_rfknuckle_collision_geom">
        <cylinder length="0.014" radius="0.007"/>
      </geometry>
    </collision>
  </link>
  <joint name="rh_RFJ4" type="revolute">
    <parent link="rh_palm"/>
    <child link="rh_rfknuckle"/>
    <!--<origin xyz="0.033 0 0.095" rpy="0 0 0" />-->
    <origin rpy="0 0 0" xyz="-0.011 0 0.095"/>
    <axis xyz="0 1.0 0"/>
    <limit effort="4.0" lower="-0.349065850399" upper="0.349065850399" velocity="2.0"/>
    <dynamics damping="0.1"/>
  </joint>
  <gazebo reference="rh_RFJ4">
    <provideFeedback>1</provideFeedback>
    <implicitSpringDamper>1</implicitSpringDamper>
  </gazebo>
  <transmission name="rh_rfknuckle_transmission">
    <type>sr_mechanism_model/SimpleTransmission</type>
    <actuator name="rh_RFJ4">
      <mechanicalReduction>1</mechanicalReduction>
    </actuator>
    <joint name="rh_RFJ4">
      <hardwareInterface>hardware_interface/EffortJointInterface</hardwareInterface>
    </joint>
  </transmission>
  <!-- prefix can be anything but usually is "r_" or  "l_" for right and left hands distinction -->
  <gazebo reference="rh_rfknuckle">
    <sensor name="rh_rfknuckle_contact" type="contact">
      <always_on>1</always_on>
      <update_rate>1000.0</update_rate>
      <contact>
        <collision>rh_rfknuckle_collision</collision>
        <topic>rh_rfknuckle_collision</topic>
      </contact>
      <plugin filename="libgazebo_ros_bumper.so" name="rh_rfknuckle_gazebo_ros_bumper_controller">
        <alwaysOn>true</alwaysOn>
        <frameName>rh_rfknuckle</frameName>
        <updateRate>100.0</updateRate>
        <bumperTopicName>contacts/rh_rf/knuckle</bumperTopicName>
      </plugin>
    </sensor>
    <material>Gazebo/Grey</material>
  </gazebo>
  <link name="rh_rfproximal">
    <inertial>
      <mass value="0.030"/>
      <origin xyz="0 0 0.0225"/>
      <inertia ixx="0.0000098" ixy="0.0" ixz="0.0" iyy="0.00001" iyz="0.0" izz="0.0000018"/>
    </inertial>
    <visual>
      <origin rpy="0 0 0" xyz="0 0 0"/>
      <geometry name="rh_rfproximal_visual">
        <mesh filename="package://sr_description/meshes/hand/F3.dae" scale="0.001 0.001 0.001"/>
      </geometry>
      <material name="Grey"/>
    </visual>
    <collision>
      <origin rpy="0 0 0" xyz="0 0 0.025"/>
      <geometry name="rh_rfproximal_collision_geom">
        <cylinder length="0.040" radius="0.007"/>
      </geometry>
    </collision>
  </link>
  <joint name="rh_RFJ3" type="revolute">
    <parent link="rh_rfknuckle"/>
    <child link="rh_rfproximal"/>
    <origin rpy="0 0 0" xyz="0 0 0"/>
    <axis xyz="1 0 0"/>
    <limit effort="4.0" lower="0" upper="1.57079632679" velocity="2.0"/>
    <dynamics damping="0.1"/>
  </joint>
  <gazebo reference="rh_RFJ3">
    <provideFeedback>1</provideFeedback>
    <implicitSpringDamper>1</implicitSpringDamper>
  </gazebo>
  <transmission name="rh_rfproximal_transmission">
    <type>sr_mechanism_model/SimpleTransmission</type>
    <actuator name="rh_RFJ3">
      <mechanicalReduction>1</mechanicalReduction>
    </actuator>
    <joint name="rh_RFJ3">
      <hardwareInterface>hardware_interface/EffortJointInterface</hardwareInterface>
    </joint>
  </transmission>
  <!-- prefix can be anything but usually is "r_" or  "l_" for right and left hands distinction -->
  <gazebo reference="rh_rfproximal">
    <sensor name="rh_rfproximal_contact" type="contact">
      <always_on>1</always_on>
      <update_rate>1000.0</update_rate>
      <contact>
        <collision>rh_rfproximal_collision</collision>
        <topic>rh_rfproximal_collision</topic>
      </contact>
      <plugin filename="libgazebo_ros_bumper.so" name="rh_rfproximal_gazebo_ros_bumper_controller">
        <alwaysOn>true</alwaysOn>
        <frameName>rh_rfproximal</frameName>
        <updateRate>100.0</updateRate>
        <bumperTopicName>contacts/rh_rf/proximal</bumperTopicName>
      </plugin>
    </sensor>
    <selfCollide>true</selfCollide>
  </gazebo>
  <link name="rh_rfmiddle">
    <inertial>
      <origin rpy="0 0 0" xyz="0 0 0.0125"/>
      <mass value="0.017"/>
      <inertia ixx="0.0000026" ixy="0.0" ixz="0.0" iyy="0.0000027" iyz="0.0" izz="0.00000087"/>
    </inertial>
    <visual>
      <origin rpy="0 0 0" xyz="0 0 0"/>
      <geometry name="rh_rfmiddle_visual">
        <mesh filename="package://sr_description/meshes/hand/F2.dae" scale="0.001 0.001 0.001"/>
      </geometry>
      <material name="Grey"/>
    </visual>
    <collision>
      <origin rpy="0 0 0" xyz="0 0 0.0125"/>
      <geometry name="rh_rfmiddle_collision_geom">
        <cylinder length="0.025" radius="0.007"/>
      </geometry>
    </collision>
    <collision>
      <origin rpy="0 0 0" xyz="0 0 0.0"/>
      <geometry>
        <sphere radius="0.007"/>
      </geometry>
    </collision>
    <collision>
      <origin rpy="0 0 0" xyz="0 0 0.025"/>
      <geometry>
        <sphere radius="0.007"/>
      </geometry>
    </collision>
  </link>
  <joint name="rh_RFJ2" type="revolute">
    <parent link="rh_rfproximal"/>
    <child link="rh_rfmiddle"/>
    <origin rpy="0 0 0" xyz="0 0 0.045"/>
    <axis xyz="1 0 0"/>
    <limit effort="4.0" lower="0" upper="1.57079632679" velocity="2.0"/>
    <dynamics damping="0.1"/>
  </joint>
  <gazebo reference="rh_RFJ2">
    <provideFeedback>1</provideFeedback>
    <implicitSpringDamper>1</implicitSpringDamper>
  </gazebo>
  <transmission name="rh_rfmiddle_transmission">
    <type>sr_mechanism_model/SimpleTransmission</type>
    <actuator name="rh_RFJ2">
      <mechanicalReduction>1</mechanicalReduction>
    </actuator>
    <joint name="rh_RFJ2">
      <hardwareInterface>hardware_interface/EffortJointInterface</hardwareInterface>
    </joint>
    <!-- <secondJoint name="${prefix}${joint_prefix}J2"/> -->
  </transmission>
  <!-- prefix can be anything but usually is "r_" or  "l_" for right and left hands distinction -->
  <gazebo reference="rh_rfmiddle">
    <sensor name="rh_rfmiddle_contact" type="contact">
      <always_on>1</always_on>
      <update_rate>1000.0</update_rate>
      <contact>
        <collision>rh_rfmiddle_collision</collision>
        <topic>rh_rfmiddle_collision</topic>
      </contact>
      <plugin filename="libgazebo_ros_bumper.so" name="rh_rfproximal_gazebo_ros_bumper_controller">
        <alwaysOn>true</alwaysOn>
        <frameName>rh_rfmiddle</frameName>
        <updateRate>100.0</updateRate>
        <bumperTopicName>contacts/rh_rf/middle</bumperTopicName>
      </plugin>
    </sensor>
    <selfCollide>true</selfCollide>
  </gazebo>
  <link name="rh_rfdistal">
    <inertial>
      <mass value="0.012"/>
      <origin xyz="0 0 0.012"/>
      <inertia ixx="0.00000094" ixy="0.0" ixz="0.0" iyy="0.0000011" iyz="0.0" izz="0.00000053"/>
    </inertial>
    <visual>
      <origin rpy="0 0 0" xyz="0 0 0"/>
      <geometry name="rh_rfdistal_visual">
        <!-- Standard distal  -->
        <mesh filename="package://sr_description/meshes/hand/F1.dae" scale="0.001 0.001 0.001"/>
      </geometry>
      <material name="Grey"/>
    </visual>
    <collision>
      <origin rpy="0 0 0" xyz="0 0 0"/>
      <geometry name="rh_rfdistal_collision_geom">
        <!-- Standard distal  -->
        <mesh filename="package://sr_description/meshes/hand/F1.dae" scale="0.001 0.001 0.001"/>
      </geometry>
    </collision>
  </link>
  <joint name="rh_RFJ1" type="revolute">
    <parent link="rh_rfmiddle"/>
    <child link="rh_rfdistal"/>
    <origin rpy="0 0 0" xyz="0 0 0.025"/>
    <axis xyz="1 0 0"/>
    <!-- standard distal joint -->
    <limit effort="4.0" lower="0" upper="1.57079632679" velocity="2.0"/>
    <dynamics damping="0.1"/>
  </joint>
  <gazebo reference="rh_RFJ1">
    <provideFeedback>1</provideFeedback>
    <implicitSpringDamper>1</implicitSpringDamper>
  </gazebo>
  <link name="rh_rftip">
    <inertial>
      <mass value="0.001"/>
      <inertia ixx="0.0" ixy="0.0" ixz="0.0" iyy="0.0" iyz="0.0" izz="0.0"/>
    </inertial>
  </link>
  <joint name="rh_RFtip" type="fixed">
    <parent link="rh_rfdistal"/>
    <child link="rh_rftip"/>
    <origin rpy="0 0 0" xyz="0 0 0.026"/>
  </joint>
  <transmission name="rh_rfdistal_transmission">
    <type>sr_mechanism_model/SimpleTransmission</type>
    <actuator name="rh_RFJ1">
      <mechanicalReduction>1</mechanicalReduction>
    </actuator>
    <joint name="rh_RFJ1">
      <hardwareInterface>hardware_interface/EffortJointInterface</hardwareInterface>
    </joint>
  </transmission>
  <!-- prefix can be anything but usually is "r_" or  "l_" for right and left hands distinction -->
  <gazebo reference="rh_rfdistal">
    <sensor name="rh_rfdistal_contact" type="contact">
      <always_on>1</always_on>
      <update_rate>1000.0</update_rate>
      <contact>
        <collision>rh_rfdistal_collision</collision>
        <topic>rh_rfdistal_collision</topic>
      </contact>
      <plugin filename="libgazebo_ros_bumper.so" name="rh_rfdistal_gazebo_ros_bumper_controller">
        <alwaysOn>true</alwaysOn>
        <frameName>rh_rfdistal</frameName>
        <updateRate>100.0</updateRate>
        <bumperTopicName>contacts/rh_rf/distal</bumperTopicName>
      </plugin>
    </sensor>
    <mu1 value="500.0"/>
    <mu2 value="500.0"/>
    <kp value="10000000.0"/>
    <kd value="1.0"/>
    <selfCollide>true</selfCollide>
  </gazebo>
  <link name="rh_lfmetacarpal">
    <inertial>
      <origin rpy="0 0 0" xyz="0 0 0.04"/>
      <mass value="0.030"/>
      <inertia ixx="0.0000145" ixy="0.0" ixz="0.0" iyy="0.00001638" iyz="0.0" izz="0.000004272"/>
    </inertial>
    <visual>
      <origin rpy="0 0 0" xyz="0 0 0"/>
      <geometry name="rh_lfmetacarpal_visual">
        <mesh filename="package://sr_description/meshes/hand/lfmetacarpal.dae" scale="0.001 0.001 0.001"/>
      </geometry>
      <material name="Grey"/>
    </visual>
    <collision>
      <origin rpy="0 0 0" xyz="0 0 0.038"/>
      <geometry name="rh_lfmetacarpal_collision_geom">
        <box size="0.018 0.024 0.040"/>
      </geometry>
    </collision>
  </link>
  <joint name="rh_LFJ5" type="revolute">
    <parent link="rh_palm"/>
    <child link="rh_lfmetacarpal"/>
    <origin rpy="0 0 0" xyz="-0.033 0 0.02071"/>
    <axis xyz="0.573576436 0 0.819152044"/>
    <limit effort="4.0" lower="0" upper="0.785398163397" velocity="2.0"/>
    <dynamics damping="0.1"/>
  </joint>
  <gazebo reference="rh_LFJ5">
    <provideFeedback>1</provideFeedback>
    <implicitSpringDamper>1</implicitSpringDamper>
  </gazebo>
  <transmission name="rh_lfmetacarpal_transmission">
    <type>sr_mechanism_model/SimpleTransmission</type>
    <actuator name="rh_LFJ5">
      <mechanicalReduction>1</mechanicalReduction>
    </actuator>
    <joint name="rh_LFJ5">
      <hardwareInterface>hardware_interface/EffortJointInterface</hardwareInterface>
    </joint>
  </transmission>
  <!-- prefix can be anything but usually is "r_" or  "l_" for right and left hands distinction -->
  <gazebo reference="rh_lfmetacarpal">
    <sensor name="rh_lfmetacarpal_contact" type="contact">
      <always_on>1</always_on>
      <update_rate>1000.0</update_rate>
      <contact>
        <collision>rh_lfmetacarpal_collision</collision>
        <topic>rh_lfmetacarpal_collision</topic>
      </contact>
      <plugin filename="libgazebo_ros_bumper.so" name="rh_lfmetacarpal_gazebo_ros_bumper_controller">
        <alwaysOn>true</alwaysOn>
        <frameName>rh_lfmetacarpal</frameName>
        <updateRate>100.0</updateRate>
        <bumperTopicName>contacts/rh_lf/metacarpal</bumperTopicName>
      </plugin>
    </sensor>
    <selfCollide>true</selfCollide>
  </gazebo>
  <link name="rh_lfknuckle">
    <inertial>
      <origin rpy="0 0 0" xyz="0 0 0"/>
      <mass value="0.008"/>
      <inertia ixx="0.00000026" ixy="0.0" ixz="0.0" iyy="0.00000026" iyz="0.0" izz="0.00000032"/>
    </inertial>
    <visual>
      <origin rpy="0 0 0" xyz="0 0 0.0005"/>
      <geometry name="rh_lfknuckle_visual">
        <mesh filename="package://sr_description/meshes/hand/knuckle.dae" scale="0.001 0.001 0.001"/>
      </geometry>
      <material name="LightGrey"/>
    </visual>
    <collision>
      <origin rpy="0 1.5708 0" xyz="0 0 0"/>
      <geometry name="rh_lfknuckle_collision_geom">
        <cylinder length="0.014" radius="0.007"/>
      </geometry>
    </collision>
  </link>
  <joint name="rh_LFJ4" type="revolute">
    <parent link="rh_lfmetacarpal"/>
    <child link="rh_lfknuckle"/>
    <!--<origin xyz="0.033 0 0.095" rpy="0 0 0" />-->
    <origin rpy="0 0 0" xyz="0 0 0.06579"/>
    <axis xyz="0 1.0 0"/>
    <limit effort="4.0" lower="-0.349065850399" upper="0.349065850399" velocity="2.0"/>
    <dynamics damping="0.1"/>
  </joint>
  <gazebo reference="rh_LFJ4">
    <provideFeedback>1</provideFeedback>
    <implicitSpringDamper>1</implicitSpringDamper>
  </gazebo>
  <transmission name="rh_lfknuckle_transmission">
    <type>sr_mechanism_model/SimpleTransmission</type>
    <actuator name="rh_LFJ4">
      <mechanicalReduction>1</mechanicalReduction>
    </actuator>
    <joint name="rh_LFJ4">
      <hardwareInterface>hardware_interface/EffortJointInterface</hardwareInterface>
    </joint>
  </transmission>
  <!-- prefix can be anything but usually is "r_" or  "l_" for right and left hands distinction -->
  <gazebo reference="rh_lfknuckle">
    <sensor name="rh_lfknuckle_contact" type="contact">
      <always_on>1</always_on>
      <update_rate>1000.0</update_rate>
      <contact>
        <collision>rh_lfknuckle_collision</collision>
        <topic>rh_lfknuckle_collision</topic>
      </contact>
      <plugin filename="libgazebo_ros_bumper.so" name="rh_lfknuckle_gazebo_ros_bumper_controller">
        <alwaysOn>true</alwaysOn>
        <frameName>rh_lfknuckle</frameName>
        <updateRate>100.0</updateRate>
        <bumperTopicName>contacts/rh_lf/knuckle</bumperTopicName>
      </plugin>
    </sensor>
    <material>Gazebo/Grey</material>
  </gazebo>
  <link name="rh_lfproximal">
    <inertial>
      <mass value="0.030"/>
      <origin xyz="0 0 0.0225"/>
      <inertia ixx="0.0000098" ixy="0.0" ixz="0.0" iyy="0.00001" iyz="0.0" izz="0.0000018"/>
    </inertial>
    <visual>
      <origin rpy="0 0 0" xyz="0 0 0"/>
      <geometry name="rh_lfproximal_visual">
        <mesh filename="package://sr_description/meshes/hand/F3.dae" scale="0.001 0.001 0.001"/>
      </geometry>
      <material name="Grey"/>
    </visual>
    <collision>
      <origin rpy="0 0 0" xyz="0 0 0.025"/>
      <geometry name="rh_lfproximal_collision_geom">
        <cylinder length="0.040" radius="0.007"/>
      </geometry>
    </collision>
  </link>
  <joint name="rh_LFJ3" type="revolute">
    <parent link="rh_lfknuckle"/>
    <child link="rh_lfproximal"/>
    <origin rpy="0 0 0" xyz="0 0 0"/>
    <axis xyz="1 0 0"/>
    <limit effort="4.0" lower="0" upper="1.57079632679" velocity="2.0"/>
    <dynamics damping="0.1"/>
  </joint>
  <gazebo reference="rh_LFJ3">
    <provideFeedback>1</provideFeedback>
    <implicitSpringDamper>1</implicitSpringDamper>
  </gazebo>
  <transmission name="rh_lfproximal_transmission">
    <type>sr_mechanism_model/SimpleTransmission</type>
    <actuator name="rh_LFJ3">
      <mechanicalReduction>1</mechanicalReduction>
    </actuator>
    <joint name="rh_LFJ3">
      <hardwareInterface>hardware_interface/EffortJointInterface</hardwareInterface>
    </joint>
  </transmission>
  <!-- prefix can be anything but usually is "r_" or  "l_" for right and left hands distinction -->
  <gazebo reference="rh_lfproximal">
    <sensor name="rh_lfproximal_contact" type="contact">
      <always_on>1</always_on>
      <update_rate>1000.0</update_rate>
      <contact>
        <collision>rh_lfproximal_collision</collision>
        <topic>rh_lfproximal_collision</topic>
      </contact>
      <plugin filename="libgazebo_ros_bumper.so" name="rh_lfproximal_gazebo_ros_bumper_controller">
        <alwaysOn>true</alwaysOn>
        <frameName>rh_lfproximal</frameName>
        <updateRate>100.0</updateRate>
        <bumperTopicName>contacts/rh_lf/proximal</bumperTopicName>
      </plugin>
    </sensor>
    <selfCollide>true</selfCollide>
  </gazebo>
  <link name="rh_lfmiddle">
    <inertial>
      <origin rpy="0 0 0" xyz="0 0 0.0125"/>
      <mass value="0.017"/>
      <inertia ixx="0.0000026" ixy="0.0" ixz="0.0" iyy="0.0000027" iyz="0.0" izz="0.00000087"/>
    </inertial>
    <visual>
      <origin rpy="0 0 0" xyz="0 0 0"/>
      <geometry name="rh_lfmiddle_visual">
        <mesh filename="package://sr_description/meshes/hand/F2.dae" scale="0.001 0.001 0.001"/>
      </geometry>
      <material name="Grey"/>
    </visual>
    <collision>
      <origin rpy="0 0 0" xyz="0 0 0.0125"/>
      <geometry name="rh_lfmiddle_collision_geom">
        <cylinder length="0.025" radius="0.007"/>
      </geometry>
    </collision>
    <collision>
      <origin rpy="0 0 0" xyz="0 0 0.0"/>
      <geometry>
        <sphere radius="0.007"/>
      </geometry>
    </collision>
    <collision>
      <origin rpy="0 0 0" xyz="0 0 0.025"/>
      <geometry>
        <sphere radius="0.007"/>
      </geometry>
    </collision>
  </link>
  <joint name="rh_LFJ2" type="revolute">
    <parent link="rh_lfproximal"/>
    <child link="rh_lfmiddle"/>
    <origin rpy="0 0 0" xyz="0 0 0.045"/>
    <axis xyz="1 0 0"/>
    <limit effort="4.0" lower="0" upper="1.57079632679" velocity="2.0"/>
    <dynamics damping="0.1"/>
  </joint>
  <gazebo reference="rh_LFJ2">
    <provideFeedback>1</provideFeedback>
    <implicitSpringDamper>1</implicitSpringDamper>
  </gazebo>
  <transmission name="rh_lfmiddle_transmission">
    <type>sr_mechanism_model/SimpleTransmission</type>
    <actuator name="rh_LFJ2">
      <mechanicalReduction>1</mechanicalReduction>
    </actuator>
    <joint name="rh_LFJ2">
      <hardwareInterface>hardware_interface/EffortJointInterface</hardwareInterface>
    </joint>
    <!-- <secondJoint name="${prefix}${joint_prefix}J2"/> -->
  </transmission>
  <!-- prefix can be anything but usually is "r_" or  "l_" for right and left hands distinction -->
  <gazebo reference="rh_lfmiddle">
    <sensor name="rh_lfmiddle_contact" type="contact">
      <always_on>1</always_on>
      <update_rate>1000.0</update_rate>
      <contact>
        <collision>rh_lfmiddle_collision</collision>
        <topic>rh_lfmiddle_collision</topic>
      </contact>
      <plugin filename="libgazebo_ros_bumper.so" name="rh_lfproximal_gazebo_ros_bumper_controller">
        <alwaysOn>true</alwaysOn>
        <frameName>rh_lfmiddle</frameName>
        <updateRate>100.0</updateRate>
        <bumperTopicName>contacts/rh_lf/middle</bumperTopicName>
      </plugin>
    </sensor>
    <selfCollide>true</selfCollide>
  </gazebo>
  <link name="rh_lfdistal">
    <inertial>
      <mass value="0.012"/>
      <origin xyz="0 0 0.012"/>
      <inertia ixx="0.00000094" ixy="0.0" ixz="0.0" iyy="0.0000011" iyz="0.0" izz="0.00000053"/>
    </inertial>
    <visual>
      <origin rpy="0 0 0" xyz="0 0 0"/>
      <geometry name="rh_lfdistal_visual">
        <!-- Standard distal  -->
        <mesh filename="package://sr_description/meshes/hand/F1.dae" scale="0.001 0.001 0.001"/>
      </geometry>
      <material name="Grey"/>
    </visual>
    <collision>
      <origin rpy="0 0 0" xyz="0 0 0"/>
      <geometry name="rh_lfdistal_collision_geom">
        <!-- Standard distal  -->
        <mesh filename="package://sr_description/meshes/hand/F1.dae" scale="0.001 0.001 0.001"/>
      </geometry>
    </collision>
  </link>
  <joint name="rh_LFJ1" type="revolute">
    <parent link="rh_lfmiddle"/>
    <child link="rh_lfdistal"/>
    <origin rpy="0 0 0" xyz="0 0 0.025"/>
    <axis xyz="1 0 0"/>
    <!-- standard distal joint -->
    <limit effort="4.0" lower="0" upper="1.57079632679" velocity="2.0"/>
    <dynamics damping="0.1"/>
  </joint>
  <gazebo reference="rh_LFJ1">
    <provideFeedback>1</provideFeedback>
    <implicitSpringDamper>1</implicitSpringDamper>
  </gazebo>
  <link name="rh_lftip">
    <inertial>
      <mass value="0.001"/>
      <inertia ixx="0.0" ixy="0.0" ixz="0.0" iyy="0.0" iyz="0.0" izz="0.0"/>
    </inertial>
  </link>
  <joint name="rh_LFtip" type="fixed">
    <parent link="rh_lfdistal"/>
    <child link="rh_lftip"/>
    <origin rpy="0 0 0" xyz="0 0 0.026"/>
  </joint>
  <transmission name="rh_lfdistal_transmission">
    <type>sr_mechanism_model/SimpleTransmission</type>
    <actuator name="rh_LFJ1">
      <mechanicalReduction>1</mechanicalReduction>
    </actuator>
    <joint name="rh_LFJ1">
      <hardwareInterface>hardware_interface/EffortJointInterface</hardwareInterface>
    </joint>
  </transmission>
  <!-- prefix can be anything but usually is "r_" or  "l_" for right and left hands distinction -->
  <gazebo reference="rh_lfdistal">
    <sensor name="rh_lfdistal_contact" type="contact">
      <always_on>1</always_on>
      <update_rate>1000.0</update_rate>
      <contact>
        <collision>rh_lfdistal_collision</collision>
        <topic>rh_lfdistal_collision</topic>
      </contact>
      <plugin filename="libgazebo_ros_bumper.so" name="rh_lfdistal_gazebo_ros_bumper_controller">
        <alwaysOn>true</alwaysOn>
        <frameName>rh_lfdistal</frameName>
        <updateRate>100.0</updateRate>
        <bumperTopicName>contacts/rh_lf/distal</bumperTopicName>
      </plugin>
    </sensor>
    <mu1 value="500.0"/>
    <mu2 value="500.0"/>
    <kp value="10000000.0"/>
    <kd value="1.0"/>
    <selfCollide>true</selfCollide>
  </gazebo>
  <link name="rh_thbase">
    <inertial>
      <mass value="0.010"/>
      <origin rpy="0 0 0" xyz="0 0 0"/>
      <inertia ixx="0.00000016" ixy="0.0" ixz="0.0" iyy="0.00000016" iyz="0.0" izz="0.00000016"/>
    </inertial>
    <visual>
      <origin rpy="0 0 0" xyz="0 0 0"/>
      <geometry name="rh_thbase_visual">
        <box size="0.001 0.001 0.001"/>
      </geometry>
      <material name="shadow_thbase_material">
        <color rgba="0.5 0.5 0.5 1.0"/>
      </material>
    </visual>
    <collision>
      <origin rpy="0 0 0" xyz="0 0 0"/>
      <geometry name="rh_thbase_collision_geom">
        <sphere radius="0.011"/>
      </geometry>
    </collision>
  </link>
  <joint name="rh_THJ5" type="revolute">
    <parent link="rh_palm"/>
    <child link="rh_thbase"/>
    <origin rpy="0 0.785398163397 0.0" xyz="0.034 -0.0085 0.029"/>
    <axis xyz="0 0 -1.0"/>
    <limit effort="4.0" lower="-1.0471975512" upper="1.0471975512" velocity="4.0"/>
    <dynamics damping="0.2"/>
  </joint>
  <gazebo reference="rh_THJ5">
    <provideFeedback>1</provideFeedback>
    <implicitSpringDamper>1</implicitSpringDamper>
  </gazebo>
  <transmission name="rh_thbase_transmission">
    <type>sr_mechanism_model/SimpleTransmission</type>
    <actuator name="rh_THJ5">
      <mechanicalReduction>1</mechanicalReduction>
    </actuator>
    <joint name="rh_THJ5">
      <hardwareInterface>hardware_interface/EffortJointInterface</hardwareInterface>
    </joint>
  </transmission>
  <!-- prefix can be anything but usually is "r_" or  "l_" for right and left hands distinction -->
  <gazebo reference="rh_thbase">
    <sensor name="rh_thbase_contact" type="contact">
      <always_on>1</always_on>
      <update_rate>1000.0</update_rate>
      <contact>
        <collision>rh_thbase_collision</collision>
        <topic>rh_thbase_collision</topic>
      </contact>
      <plugin filename="libgazebo_ros_bumper.so" name="rh_thbase_gazebo_ros_bumper_controller">
        <alwaysOn>true</alwaysOn>
        <frameName>rh_thbase</frameName>
        <updateRate>100.0</updateRate>
        <bumperTopicName>contacts/rh_th/base</bumperTopicName>
      </plugin>
    </sensor>
    <selfCollide>false</selfCollide>
  </gazebo>
  <link name="rh_thproximal">
    <inertial>
      <mass value="0.040"/>
      <origin rpy="0 0 0" xyz="0 0 0.019"/>
      <inertia ixx="0.0000136" ixy="0.0" ixz="0.0" iyy="0.0000136" iyz="0.0" izz="0.00000313"/>
    </inertial>
    <visual>
      <origin rpy="0 0 0" xyz="0 0 0"/>
      <geometry name="rh_thproximal_visual">
        <mesh filename="package://sr_description/meshes/hand/TH3_z.dae" scale="0.001 0.001 0.001"/>
      </geometry>
      <material name="shadow_thproximal_material">
        <color rgba="0.2 0.2 0.2 1.0"/>
      </material>
    </visual>
    <collision>
      <origin rpy="0 0 0" xyz="0 0 0.020"/>
      <geometry name="rh_thproximal_collision_geom">
        <cylinder length="0.018" radius="0.012"/>
      </geometry>
    </collision>
  </link>
  <joint name="rh_THJ4" type="revolute">
    <parent link="rh_thbase"/>
    <child link="rh_thproximal"/>
    <origin rpy="0 0 0" xyz="0 0 0"/>
    <axis xyz="1.0 0 0"/>
    <limit effort="4.0" lower="0.0" upper="1.2217304764" velocity="4.0"/>
    <dynamics damping="0.2"/>
  </joint>
  <gazebo reference="rh_THJ4">
    <provideFeedback>1</provideFeedback>
    <implicitSpringDamper>1</implicitSpringDamper>
  </gazebo>
  <transmission name="rh_thproximal_transmission">
    <type>sr_mechanism_model/SimpleTransmission</type>
    <actuator name="rh_THJ4">
      <mechanicalReduction>1</mechanicalReduction>
    </actuator>
    <joint name="rh_THJ4">
      <hardwareInterface>hardware_interface/EffortJointInterface</hardwareInterface>
    </joint>
  </transmission>
  <!-- prefix can be anything but usually is "r_" or  "l_" for right and left hands distinction -->
  <gazebo reference="rh_thproximal">
    <sensor name="rh_thproximal_contact" type="contact">
      <always_on>1</always_on>
      <update_rate>1000.0</update_rate>
      <contact>
        <collision>rh_thproximal_collision</collision>
        <topic>rh_thproximal_collision</topic>
      </contact>
      <plugin filename="libgazebo_ros_bumper.so" name="rh_thproximal_gazebo_ros_bumper_controller">
        <alwaysOn>true</alwaysOn>
        <frameName>rh_thproximal</frameName>
        <updateRate>100.0</updateRate>
        <bumperTopicName>contacts/rh_th/proximal</bumperTopicName>
      </plugin>
    </sensor>
    <selfCollide>false</selfCollide>
  </gazebo>
  <link name="rh_thhub">
    <inertial>
      <mass value="0.005"/>
      <origin rpy="0 0 0" xyz="0 0 0"/>
      <inertia ixx="0.000001" ixy="0.0" ixz="0.0" iyy="0.000001" iyz="0.0" izz="0.0000003"/>
    </inertial>
    <visual>
      <origin rpy="0 0 0" xyz="0 0 0"/>
      <geometry name="rh_thhub_visual">
        <box size="0.001 0.001 0.001"/>
      </geometry>
      <material name="shadow_thhub_material">
        <color rgba="0.7 0.7 0.7 1.0"/>
      </material>
    </visual>
    <collision>
      <origin rpy="0 0 0" xyz="0 0 0"/>
      <geometry name="rh_thhub_collision_geom">
        <sphere radius="0.010"/>
      </geometry>
    </collision>
  </link>
  <joint name="rh_THJ3" type="revolute">
    <parent link="rh_thproximal"/>
    <child link="rh_thhub"/>
    <origin rpy="0 0 0" xyz="0 0 0.038"/>
    <axis xyz="1 0 0"/>
    <limit effort="4.0" lower="-0.209439510239" upper="0.209439510239" velocity="4.0"/>
    <dynamics damping="0.2"/>
  </joint>
  <gazebo reference="rh_THJ3">
    <provideFeedback>1</provideFeedback>
    <implicitSpringDamper>1</implicitSpringDamper>
  </gazebo>
  <transmission name="rh_thhub_transmission">
    <type>sr_mechanism_model/SimpleTransmission</type>
    <actuator name="rh_THJ3">
      <mechanicalReduction>1</mechanicalReduction>
    </actuator>
    <joint name="rh_THJ3">
      <hardwareInterface>hardware_interface/EffortJointInterface</hardwareInterface>
    </joint>
  </transmission>
  <!-- prefix can be anything but usually is "r_" or  "l_" for right and left hands distinction -->
  <gazebo reference="rh_thhub">
    <sensor name="rh_thhub_contact" type="contact">
      <always_on>1</always_on>
      <update_rate>1000.0</update_rate>
      <contact>
        <collision>rh_thhub_collision</collision>
        <topic>rh_thhub_collision</topic>
      </contact>
      <plugin filename="libgazebo_ros_bumper.so" name="rh_thhub_gazebo_ros_bumper_controller">
        <alwaysOn>true</alwaysOn>
        <frameName>rh_thhub</frameName>
        <updateRate>100.0</updateRate>
        <bumperTopicName>contacts/rh_th/hub</bumperTopicName>
      </plugin>
    </sensor>
    <selfCollide>true</selfCollide>
  </gazebo>
  <link name="rh_thmiddle">
    <inertial>
      <mass value="0.020"/>
      <origin rpy="0 0 0" xyz="0 0 0.016"/>
      <inertia ixx="0.0000051" ixy="0.0" ixz="0.0" iyy="0.0000051" iyz="0.0" izz="0.00000121"/>
    </inertial>
    <visual>
      <origin rpy="0 0 0" xyz="0 0 0"/>
      <geometry name="rh_thmiddle_visual">
        <mesh filename="package://sr_description/meshes/hand/TH2_z.dae" scale="0.001 0.001 0.001"/>
      </geometry>
      <material name="shadow_thmiddle_material">
        <color rgba="0.2 0.2 0.2 1.0"/>
      </material>
    </visual>
    <collision>
      <origin rpy="0 0 0" xyz="0 0 0.012"/>
      <geometry name="rh_thmiddle_collision_geom">
        <cylinder length="0.018" radius="0.011"/>
      </geometry>
    </collision>
    <collision>
      <origin rpy="0 0 0" xyz="0 0 0.019"/>
      <geometry>
        <sphere radius="0.011"/>
      </geometry>
    </collision>
  </link>
  <joint name="rh_THJ2" type="revolute">
    <parent link="rh_thhub"/>
    <child link="rh_thmiddle"/>
    <origin rpy="0 0 0" xyz="0 0 0"/>
    <axis xyz="0 -1 0"/>
    <limit effort="4.0" lower="-0.698131700798" upper="0.698131700798" velocity="2.0"/>
    <dynamics damping="0.1"/>
  </joint>
  <gazebo reference="rh_THJ2">
    <provideFeedback>1</provideFeedback>
    <implicitSpringDamper>1</implicitSpringDamper>
  </gazebo>
  <transmission name="rh_thmiddle_transmission">
    <type>sr_mechanism_model/SimpleTransmission</type>
    <actuator name="rh_THJ2">
      <mechanicalReduction>1</mechanicalReduction>
    </actuator>
    <joint name="rh_THJ2">
      <hardwareInterface>hardware_interface/EffortJointInterface</hardwareInterface>
    </joint>
  </transmission>
  <!-- prefix can be anything but usually is "r_" or  "l_" for right and left hands distinction -->
  <gazebo reference="rh_thmiddle">
    <sensor name="rh_thmiddle_contact" type="contact">
      <always_on>1</always_on>
      <update_rate>1000.0</update_rate>
      <contact>
        <collision>rh_thmiddle_collision</collision>
        <topic>rh_thmiddle_collision</topic>
      </contact>
      <plugin filename="libgazebo_ros_bumper.so" name="rh_thmiddle_gazebo_ros_bumper_controller">
        <alwaysOn>true</alwaysOn>
        <frameName>rh_thmiddle</frameName>
        <updateRate>100.0</updateRate>
        <bumperTopicName>contacts/rh_th/middle</bumperTopicName>
      </plugin>
    </sensor>
    <selfCollide>true</selfCollide>
  </gazebo>
  <!-- common -->
  <link name="rh_thdistal">
    <inertial>
      <mass value="0.016"/>
      <origin rpy="0 0 0" xyz="0 0 0.01375"/>
      <inertia ixx="0.0000021" ixy="0.0" ixz="0.0" iyy="0.0000022" iyz="0.0" izz="0.000001"/>
    </inertial>
    <visual>
      <origin rpy="0 0 0" xyz="0 0 0"/>
      <geometry name="rh_thdistal_visual">
        <!-- Standard distal  -->
        <mesh filename="package://sr_description/meshes/hand/TH1_z.dae" scale="0.001 0.001 0.001"/>
      </geometry>
      <material name="shadow_thmiddle_material">
        <color rgba="0.2 0.2 0.2 1.0"/>
      </material>
    </visual>
    <collision>
      <origin rpy="0 0 0" xyz="0 0 0"/>
      <geometry name="rh_thmiddle_collision_geom">
        <!-- Standard distal  -->
        <mesh filename="package://sr_description/meshes/hand/TH1_z.dae" scale="0.001 0.001 0.001"/>
        <!--      <box size="0.015 0.015 0.015" /> -->
      </geometry>
    </collision>
  </link>
  <joint name="rh_THJ1" type="revolute">
    <parent link="rh_thmiddle"/>
    <child link="rh_thdistal"/>
    <origin rpy="0 0 -1.57079632679" xyz="0 0 0.032"/>
    <axis xyz="1 0 0"/>
    <limit effort="4.0" lower="0" upper="1.57079632679" velocity="4.0"/>
    <dynamics damping="0.2"/>
  </joint>
  <gazebo reference="rh_THJ1">
    <provideFeedback>1</provideFeedback>
    <implicitSpringDamper>1</implicitSpringDamper>
  </gazebo>
  <link name="rh_thtip">
    <inertial>
      <mass value="0.001"/>
      <inertia ixx="0.0" ixy="0.0" ixz="0.0" iyy="0.0" iyz="0.0" izz="0.0"/>
    </inertial>
  </link>
  <joint name="rh_thtip" type="fixed">
    <parent link="rh_thdistal"/>
    <child link="rh_thtip"/>
    <origin rpy="0 0 0" xyz="0 0 0.0275"/>
  </joint>
  <!-- prefix can be anything but usually is "r_" or  "l_" for right and left hands distinction -->
  <gazebo reference="rh_thdistal">
    <sensor name="rh_thdistal_contact" type="contact">
      <always_on>1</always_on>
      <update_rate>1000.0</update_rate>
      <contact>
        <collision>rh_thdistal_collision</collision>
        <topic>rh_thdistal_collision</topic>
      </contact>
      <plugin filename="libgazebo_ros_bumper.so" name="rh_thdistal_gazebo_ros_bumper_controller">
        <alwaysOn>true</alwaysOn>
        <frameName>rh_thdistal</frameName>
        <updateRate>100.0</updateRate>
        <bumperTopicName>contacts/rh_th/distal</bumperTopicName>
      </plugin>
    </sensor>
    <mu1 value="500.0"/>
    <mu2 value="500.0"/>
    <kp value="10000000.0"/>
    <kd value="1.0"/>
    <selfCollide>true</selfCollide>
  </gazebo>
  <transmission name="rh_thdistal_transmission">
    <type>sr_mechanism_model/SimpleTransmission</type>
    <actuator name="rh_THJ1">
      <mechanicalReduction>1</mechanicalReduction>
    </actuator>
    <joint name="rh_THJ1">
      <hardwareInterface>hardware_interface/EffortJointInterface</hardwareInterface>
    </joint>
  </transmission>
</robot>
